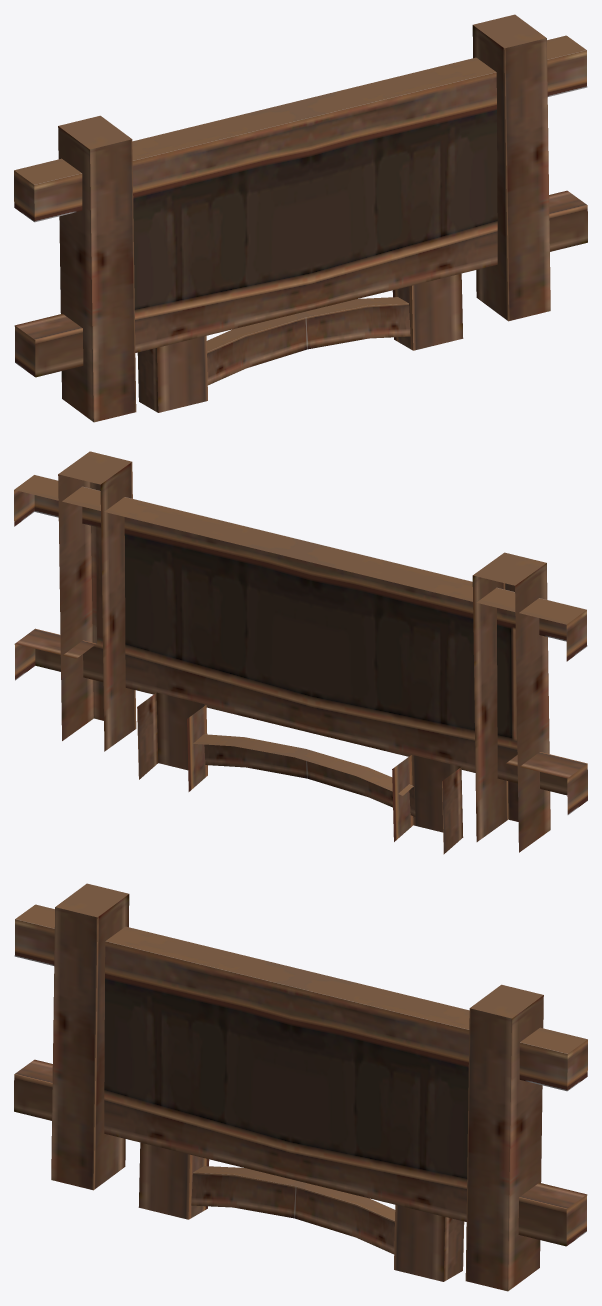
Rendered from FH_Env_MenPai_02.FBX.
The picture shows the model from 3 angles, top to bottom: view 1: azimuth 30°, elevation 25°; view 2: azimuth 150°, elevation 25°; view 3: azimuth 330°, elevation 25°; orthographic projection.
Parts seen in each view (by area): view 1: Object04; view 2: Object04; view 3: Object04.
Boxes of the visible parts, x1,y1,x2,y2 form: Object04: (14,14,587,422); Object04: (14,451,587,854); Object04: (14,883,587,1291).
Bounding box in the file's own units: 6.04 × 3.04 × 0.6767.
